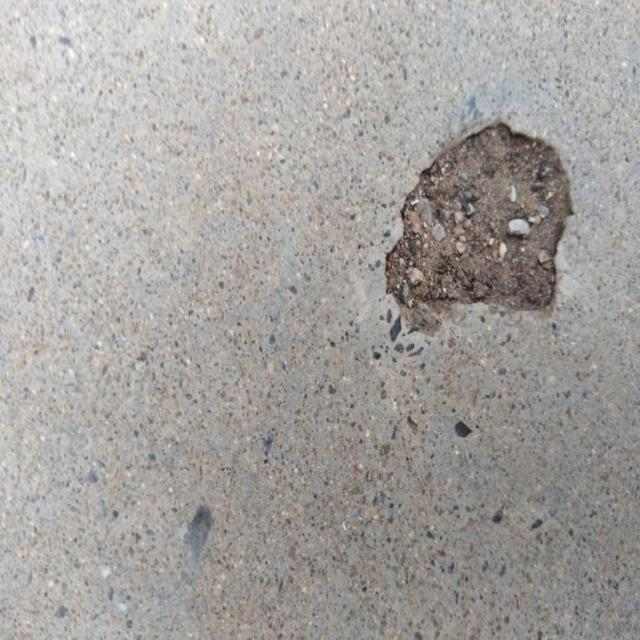concrete spalling: (383, 119, 575, 337)
